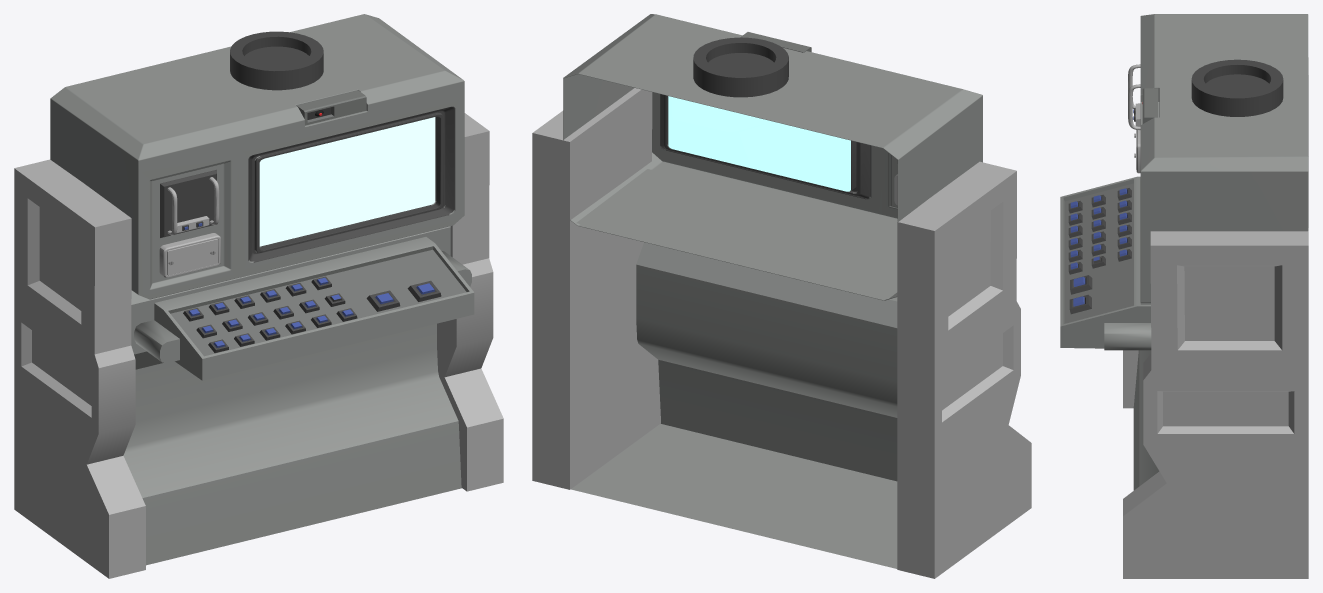
The model's file is Komputer_zagadka_v1.fbx.
3 renders of one model, left to right at view 1: azimuth 30°, elevation 25°; view 2: azimuth 150°, elevation 25°; view 3: azimuth 270°, elevation 25°, orthographic. The views are drawn at different scales.
Visible parts, largest first — view 1: Komputer_zagadka; view 2: Komputer_zagadka; view 3: Komputer_zagadka.
Boxes of the visible parts, left/top/right/bottom form: Komputer_zagadka: left=14, top=14, right=503, bottom=578; Komputer_zagadka: left=532, top=14, right=1031, bottom=578; Komputer_zagadka: left=1060, top=14, right=1308, bottom=578.
Size of the model in its own units: 2.4 by 2.5 by 1.34.
